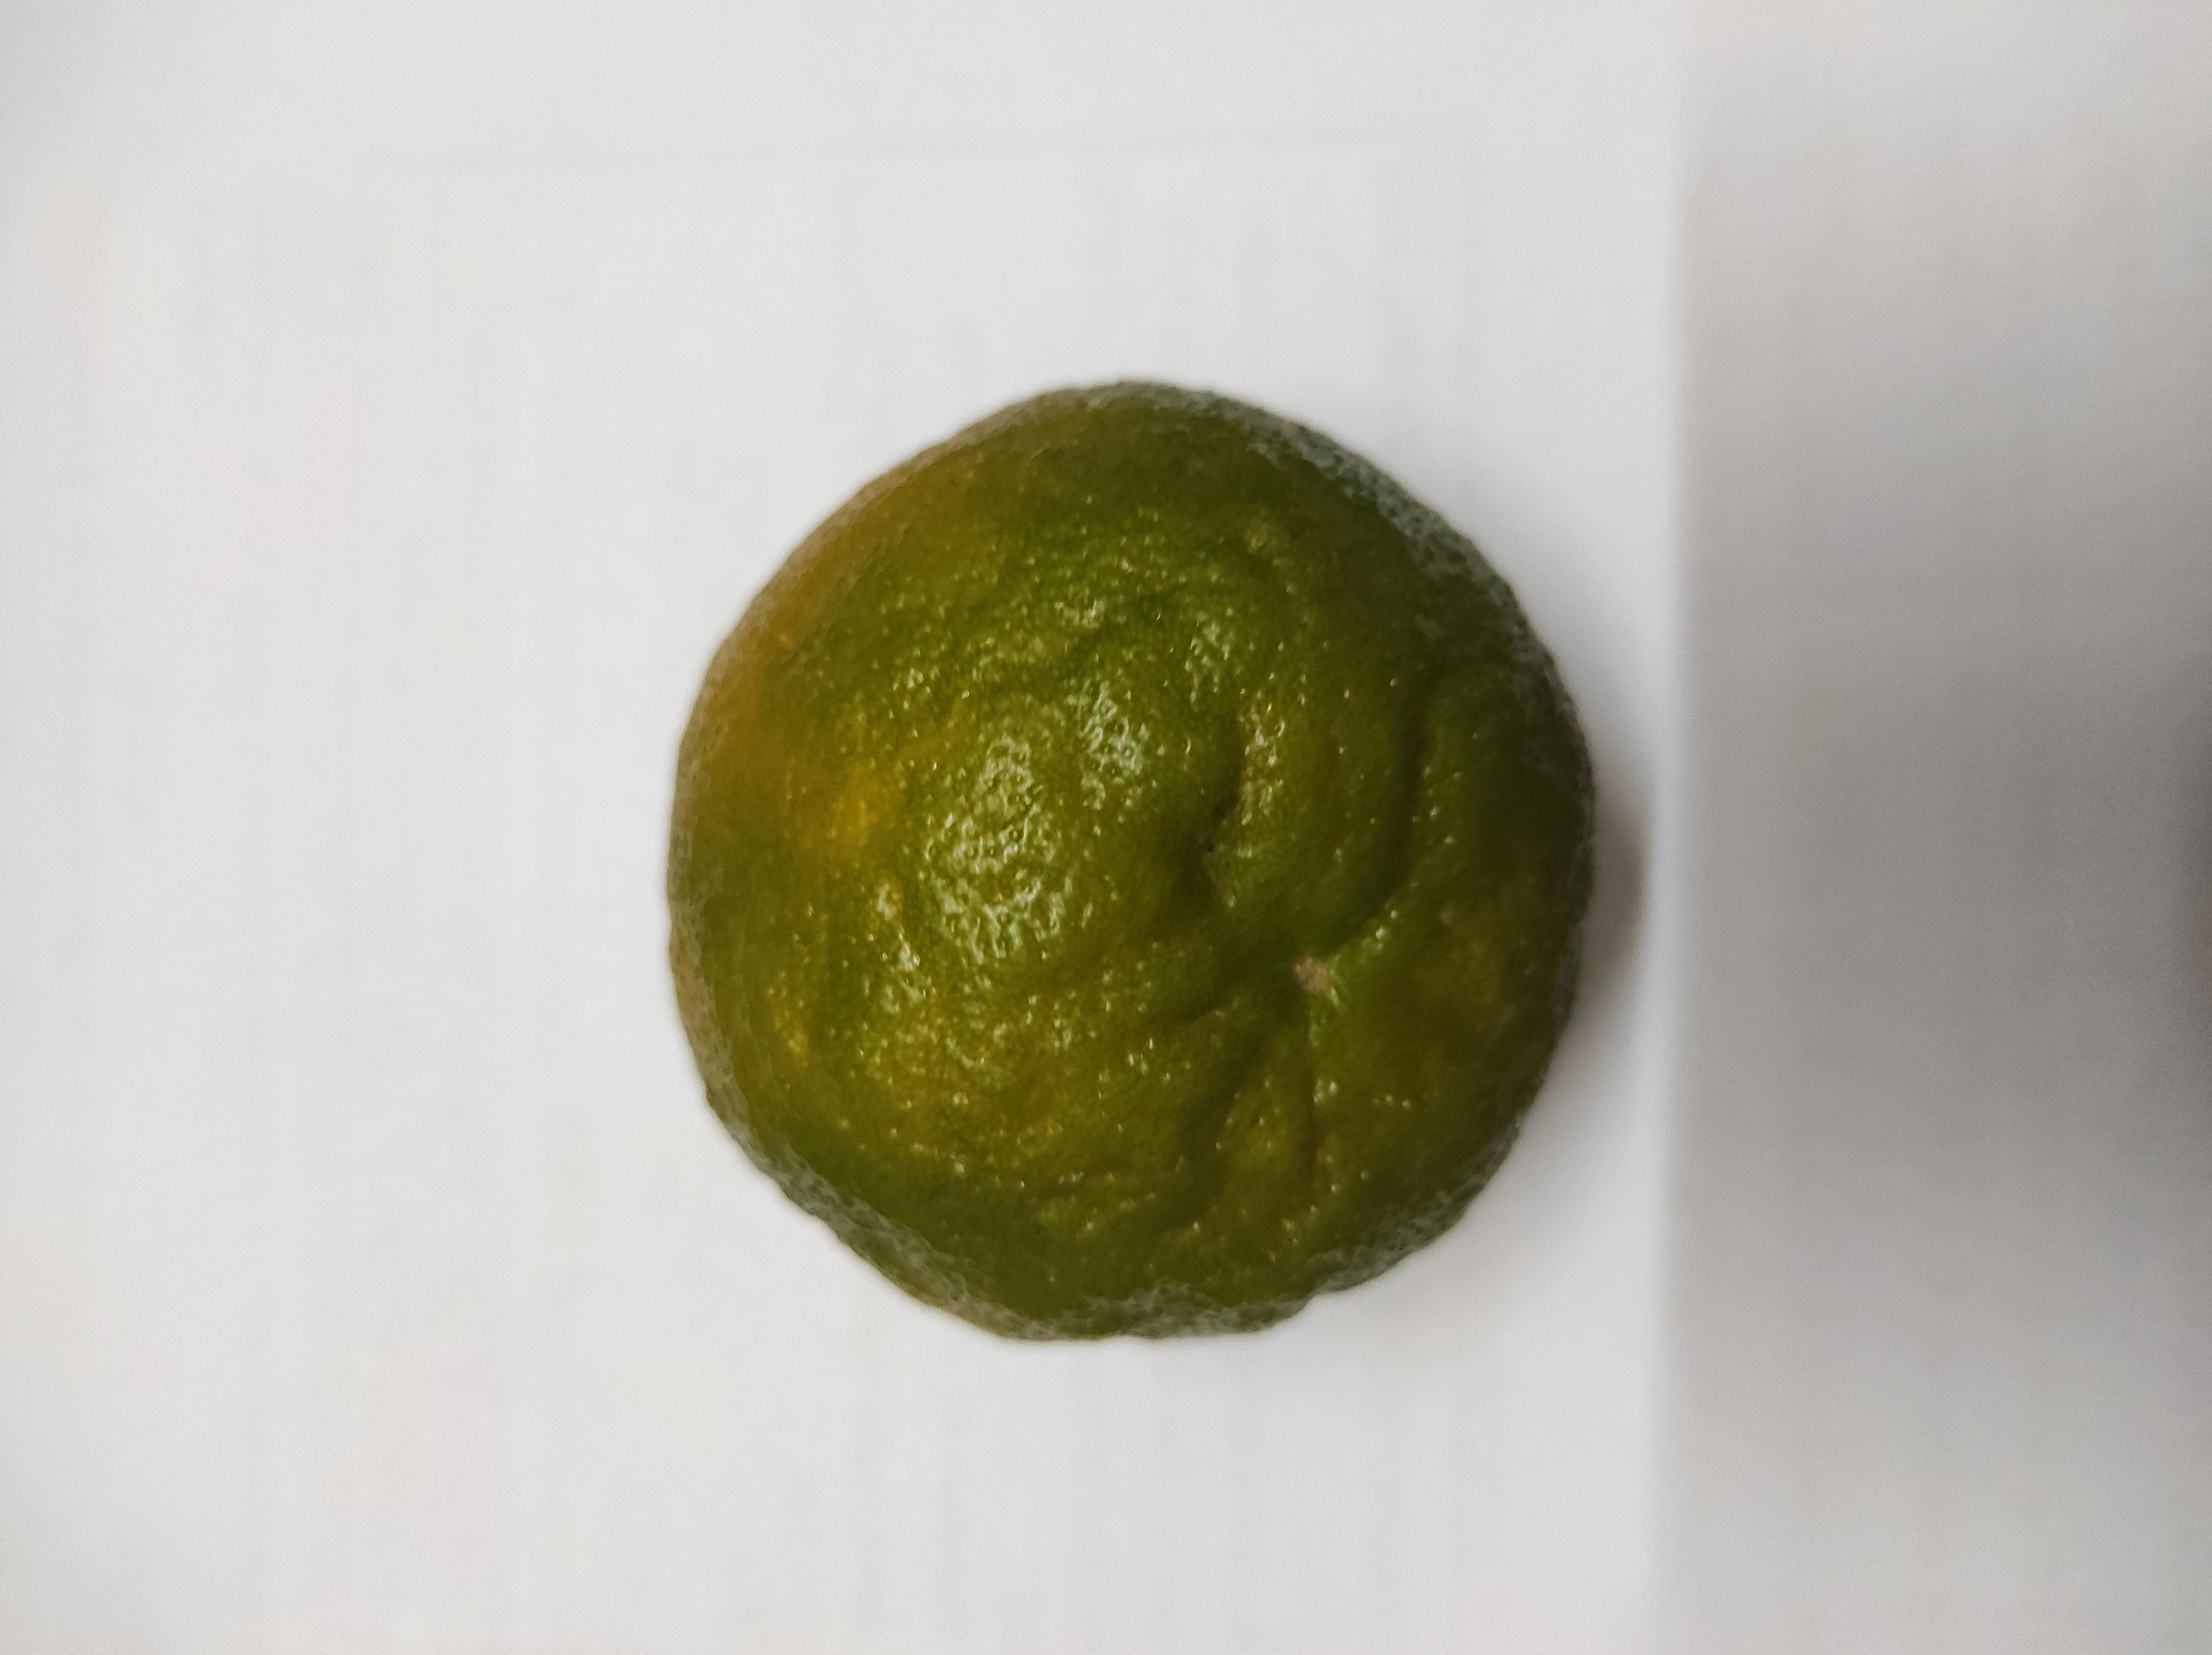Unripe: (668, 372, 1602, 1335)
